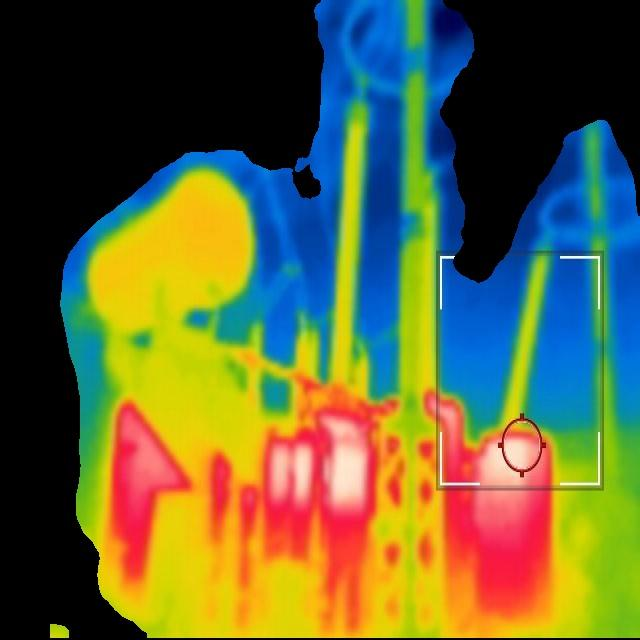Transformer Overload: (107, 376, 569, 638)
